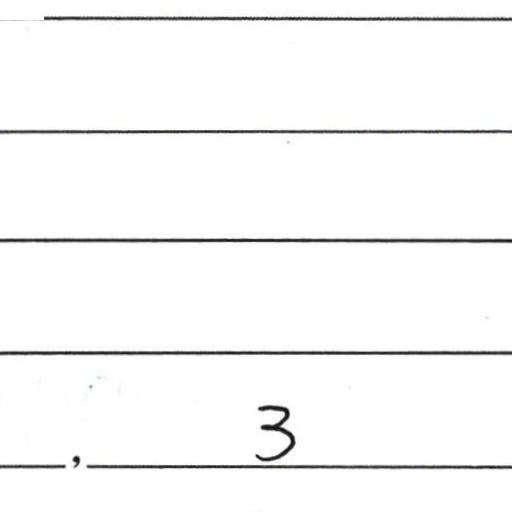ans: (249, 399, 298, 463)
